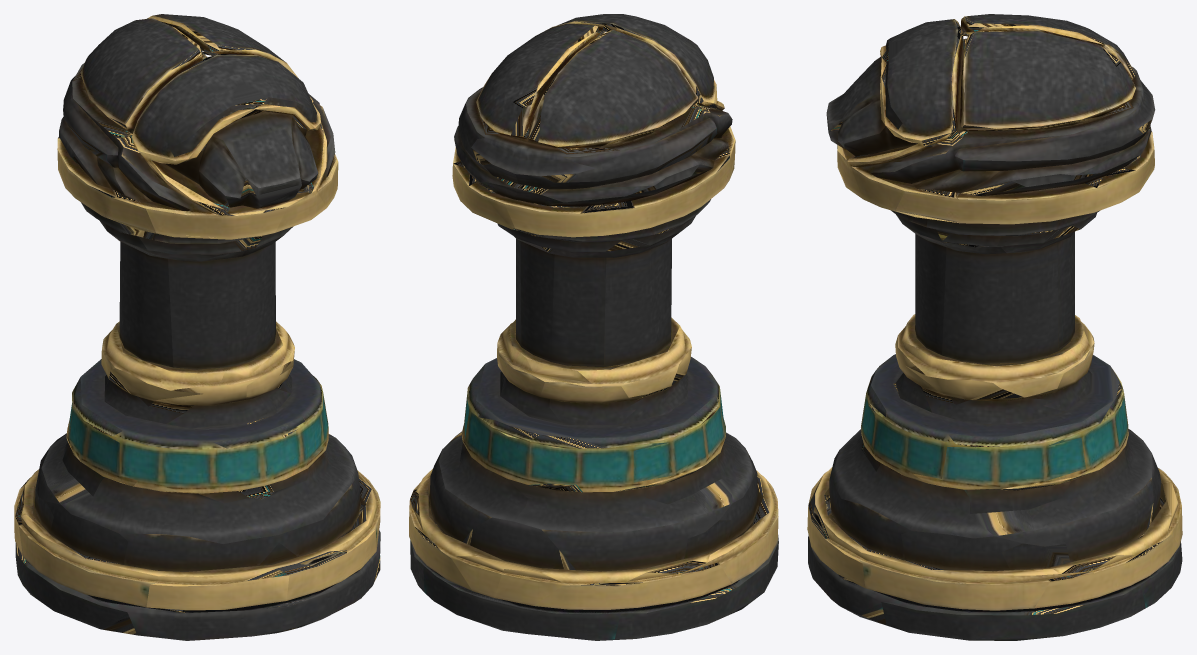
3 views of the same model, side by side, from view 1: azimuth 30°, elevation 25°; view 2: azimuth 150°, elevation 25°; view 3: azimuth 270°, elevation 25° (orthographic). The views are drawn at different scales.
Parts seen in each view (by area): view 1: world; view 2: world; view 3: world.
Boxes of the visible parts, left/top/right/bottom form: world: left=14, top=14, right=380, bottom=640; world: left=409, top=14, right=778, bottom=640; world: left=807, top=14, right=1182, bottom=640.
Bounding box in the file's own units: 0.6339 × 1 × 0.6348.
1 material, 1 textured.
